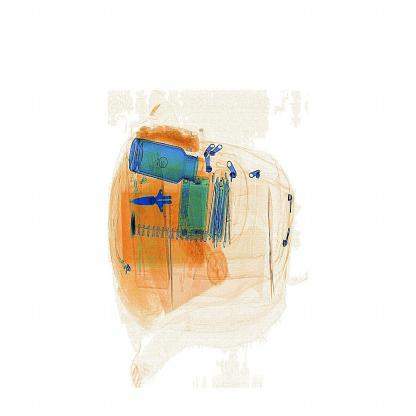gun: (129, 172, 190, 230)
